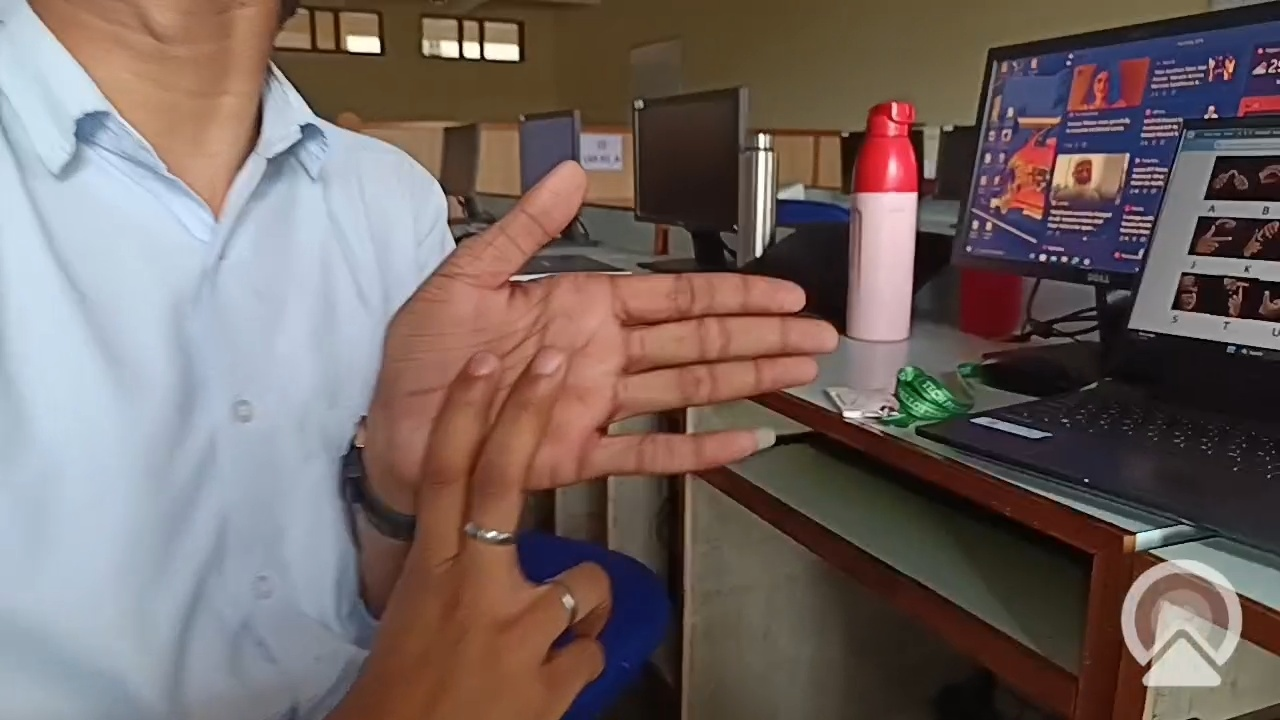N: (333, 167, 842, 720)
